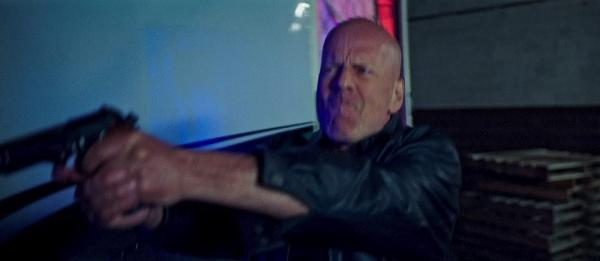Gun: (0, 103, 139, 179)
